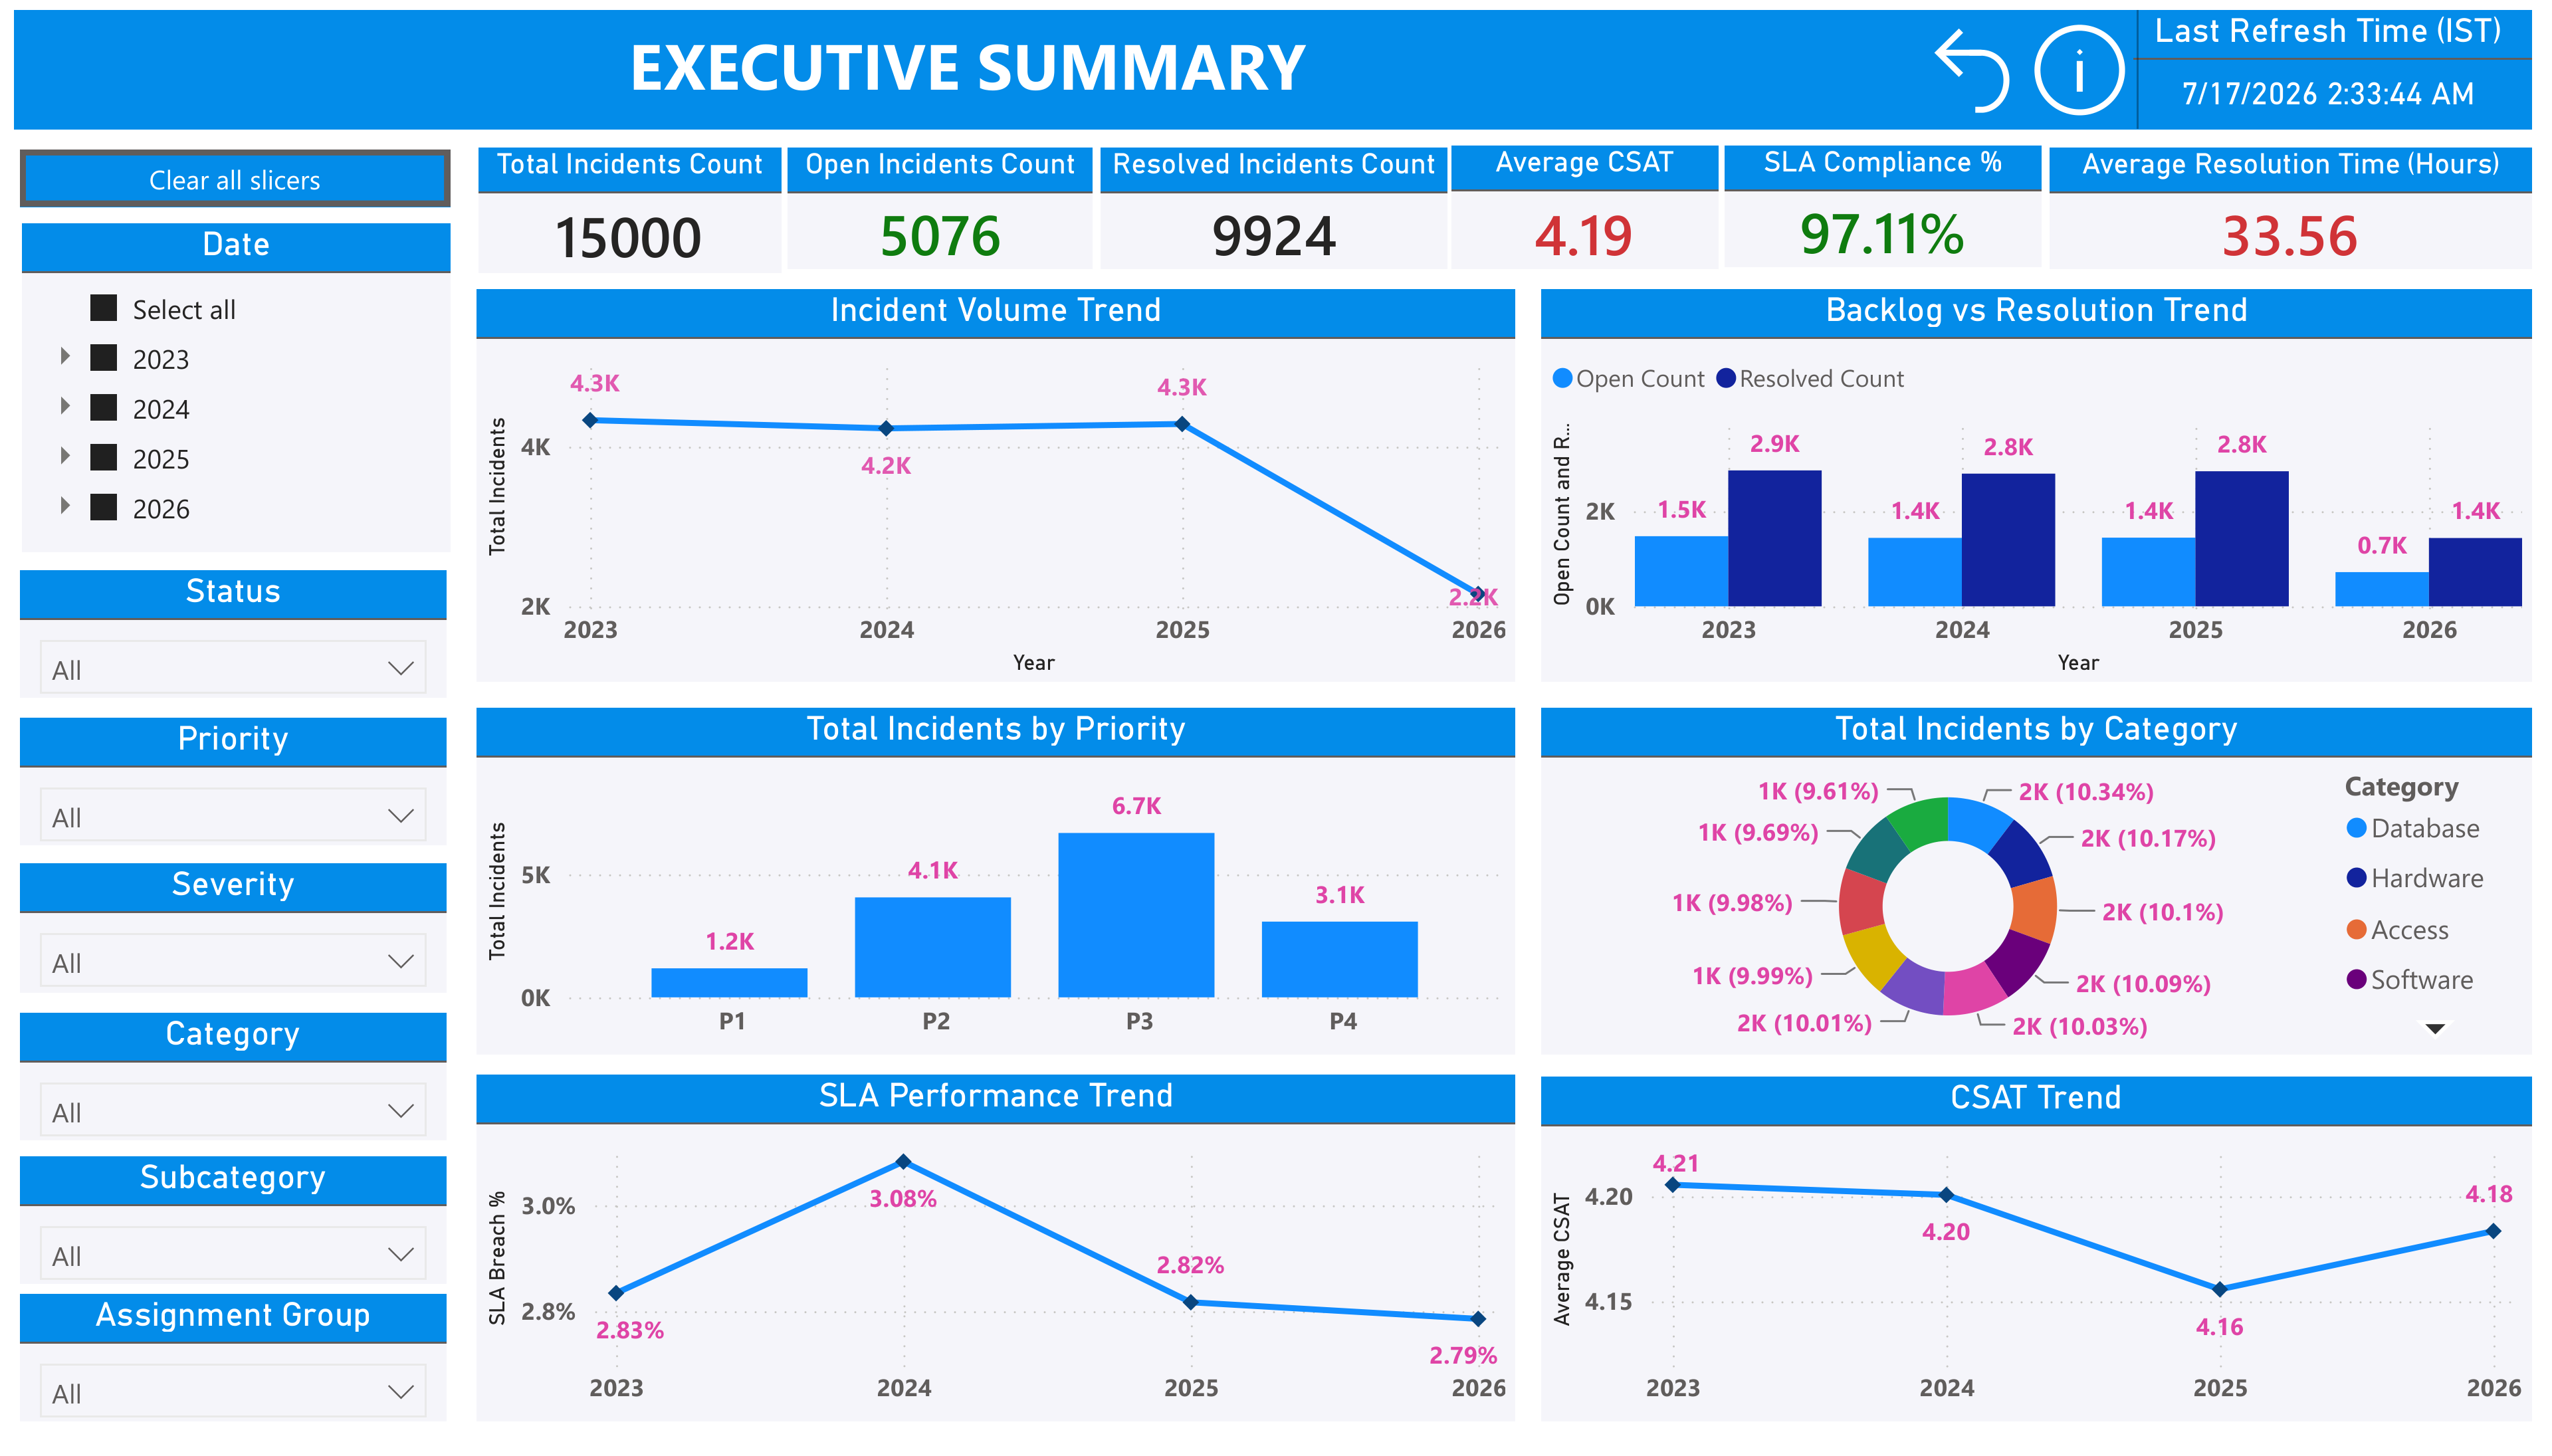

This screenshot's page, from the dashboard's own definition file:
{"tool":"powerbi","page":{"name":"EXECUTIVE SUMMARY","canvas":[1280,720],"ordinal":0},"visuals":[{"type":"textbox","box":[7.2,0,956.2,60.5],"z":0,"group":"g2"},{"type":"group","id":"g1","title":"Executive Summary Card Group","box":[239.2,69.2,1031.2,61.4],"z":0},{"type":"card","title":"Total Incidents Count","fields":{"Values":["Measure.Total Incidents"]},"box":[239.2,70.6,171.4,60],"z":0,"group":"g1"},{"type":"slicer","title":"Status","fields":{"Values":["Dim_Status.Status"]},"box":[10.2,280.7,213.8,64],"z":0,"group":"g3"},{"type":"card","title":"Last Refresh Time (IST)","fields":{"Values":["Min(Last Refresh Time (IST).Last Refresh Time (IST))"]},"box":[1064.9,0,205.1,59.6],"z":1000,"group":"g2"},{"type":"card","title":"Open Incidents Count","fields":{"Values":["Measure.Open Count"]},"box":[417.5,69.2,177.1,60],"z":1000,"group":"g1"},{"type":"lineChart","title":"Incident Volume Trend (Yearly)","fields":{"Y":["Measure.Total Incidents"],"Category":["Dim_Date.Date Hierarchy.Year","Dim_Date.Date Hierarchy.Quater","Dim_Date.Date Hierarchy.Month","Dim_Date.Date Hierarchy.Day"]},"box":[238.6,140,521.4,197.1],"z":1000},{"type":"slicer","title":"Priority","fields":{"Values":["Dim_Priority.Priority"]},"box":[10.2,354.9,213.8,64],"z":1000,"group":"g3"},{"type":"shape","box":[1059.4,0,20.4,59.6],"z":2000,"group":"g2"},{"type":"card","title":"Resolved Incidents Count","fields":{"Values":["Measure.Resolved Count"]},"box":[603.2,69.2,200,60],"z":2000,"group":"g1"},{"type":"slicer","title":"Severity","fields":{"Values":["Dim_Severity.Severity"]},"box":[10.2,427.6,213.8,65.5],"z":2000,"group":"g3"},{"type":"clusteredColumnChart","title":"SLA Breach Count by Priority","fields":{"Y":["Measure.SLA Breach Count"],"Category":["Dim_Priority.Priority"]},"box":[772.9,534.3,497.1,174.3],"z":2000},{"type":"actionButton","box":[1016.4,0,54.3,60],"z":3000,"group":"g2"},{"type":"card","title":"SLA Compliance %","fields":{"Values":["Measure.SLA Complaince %"]},"box":[808.9,69.2,200,60],"z":3000,"group":"g1"},{"type":"clusteredColumnChart","title":"Backlog vs Resolution Trend","fields":{"Category":["Dim_Date.Date Hierarchy.Year","Dim_Date.Date Hierarchy.Quater","Dim_Date.Date Hierarchy.Month","Dim_Date.Date Hierarchy.Day"],"Y":["Measure.Open Count","Measure.Resolved Count"]},"box":[772.9,140,497.1,197.1],"z":3000},{"type":"slicer","title":"Category","fields":{"Values":["Dim_Category.Category"]},"box":[10.2,503.3,213.8,64],"z":3000,"group":"g3"},{"type":"card","title":"Average Resolution Time (Hours)","fields":{"Values":["Measure.Average Resolution Time (Hours)"]},"box":[1016.1,69.2,254.3,60],"z":4000,"group":"g1"},{"type":"clusteredColumnChart","fields":{"Category":["Dim_Priority.Priority"],"Y":["Measure.Total Incidents"]},"box":[238.6,350,521.4,174.3],"z":4000},{"type":"slicer","title":"Subcategory","fields":{"Values":["Dim_Subcategory.Subcategory"]},"box":[10.2,574.5,213.8,64],"z":4000,"group":"g3"},{"type":"donutChart","fields":{"Y":["Measure.Total Incidents"],"Category":["Dim_Category.Category"]},"box":[772.9,350,497.1,174.3],"z":5000},{"type":"slicer","title":"Assignment Group","fields":{"Values":["Dim_Assigned_Group.Assigned_Group"]},"box":[10.2,644.4,213.8,64],"z":5000,"group":"g3"},{"type":"slicer","title":"Date","fields":{"Values":["Dim_Date.Date Hierarchy.Year","Dim_Date.Date Hierarchy.Quater","Dim_Date.Date Hierarchy.Month","Dim_Date.Date Hierarchy.Day"]},"box":[10.7,106.7,215.1,164.5],"z":6000,"group":"g3"},{"type":"lineChart","title":"SLA Performance Trend","fields":{"Category":["Dim_Date.Date Hierarchy.Year","Dim_Date.Date Hierarchy.Quater","Dim_Date.Date Hierarchy.Month","Dim_Date.Date Hierarchy.Day"],"Y":["Measure.SLA Breach %"]},"box":[238.6,534.3,521.4,174.3],"z":6000},{"type":"group","id":"g2","title":"ES Top Bar","box":[7.2,0,1262.9,60.5],"z":7000},{"type":"actionButton","box":[10,70,215.7,28.6],"z":7000,"group":"g3"},{"type":"group","id":"g3","title":"Slicer Group","box":[10,70,215.8,638.4],"z":8000},{"type":"actionButton","box":[961.9,0,54.7,60.5],"z":9000}]}

Visuals, with their boxes in screenshot pixels (x1, y1, x2, y2), scaled from the page's 1280x720 canvas onto the 2552x1456 screenshot:
textbox: locate(15, 0, 1921, 122)
"Executive Summary Card Group" group: locate(477, 140, 2533, 264)
"Total Incidents Count" card: locate(477, 143, 819, 264)
"Status" slicer: locate(21, 568, 447, 697)
"Last Refresh Time (IST)" card: locate(2123, 0, 2532, 120)
"Open Incidents Count" card: locate(832, 140, 1186, 261)
"Incident Volume Trend (Yearly)" lineChart: locate(476, 283, 1515, 682)
"Priority" slicer: locate(21, 718, 447, 847)
shape: locate(2112, 0, 2153, 120)
"Resolved Incidents Count" card: locate(1203, 140, 1602, 261)
"Severity" slicer: locate(21, 865, 447, 997)
"SLA Breach Count by Priority" clusteredColumnChart: locate(1541, 1081, 2532, 1433)
actionButton: locate(2026, 0, 2135, 122)
"SLA Compliance %" card: locate(1613, 140, 2012, 261)
"Backlog vs Resolution Trend" clusteredColumnChart: locate(1541, 283, 2532, 682)
"Category" slicer: locate(21, 1018, 447, 1147)
"Average Resolution Time (Hours)" card: locate(2026, 140, 2533, 261)
clusteredColumnChart - Dim_Priority.Priority x Measure.Total Incidents: locate(476, 708, 1515, 1060)
"Subcategory" slicer: locate(21, 1162, 447, 1291)
donutChart - Measure.Total Incidents x Dim_Category.Category: locate(1541, 708, 2532, 1060)
"Assignment Group" slicer: locate(21, 1303, 447, 1433)
"Date" slicer: locate(21, 216, 450, 548)
"SLA Performance Trend" lineChart: locate(476, 1081, 1515, 1433)
"ES Top Bar" group: locate(15, 0, 2532, 122)
actionButton: locate(20, 142, 450, 199)
"Slicer Group" group: locate(20, 142, 450, 1433)
actionButton: locate(1918, 0, 2027, 122)
